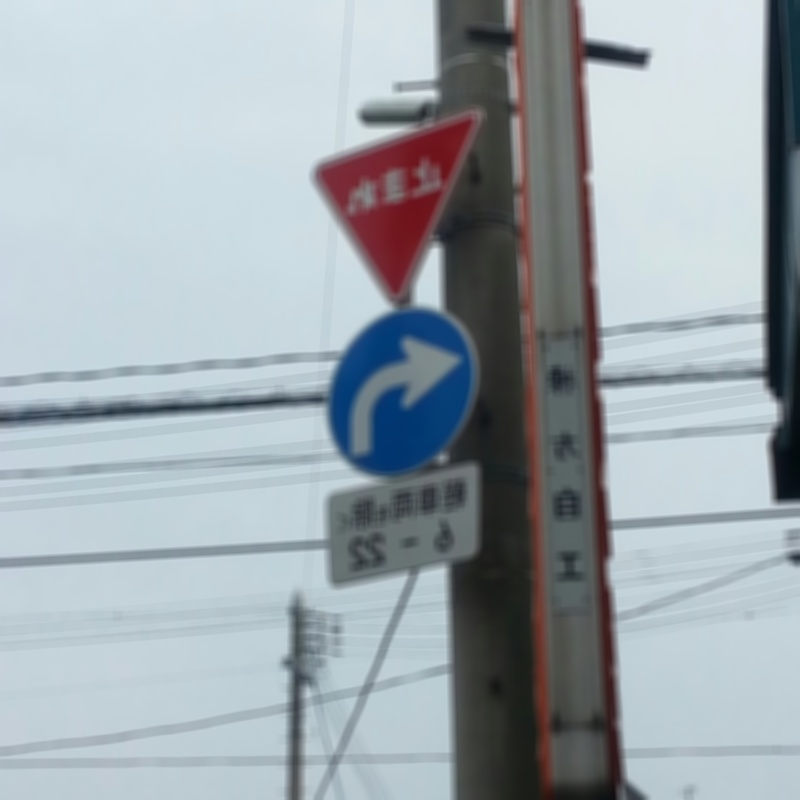Direction_sign: (328, 308, 504, 485)
